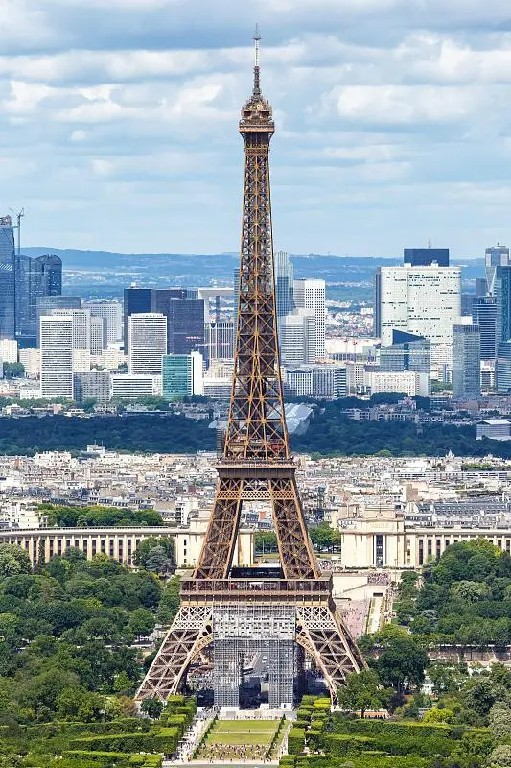Eiffel: (133, 21, 368, 712)
